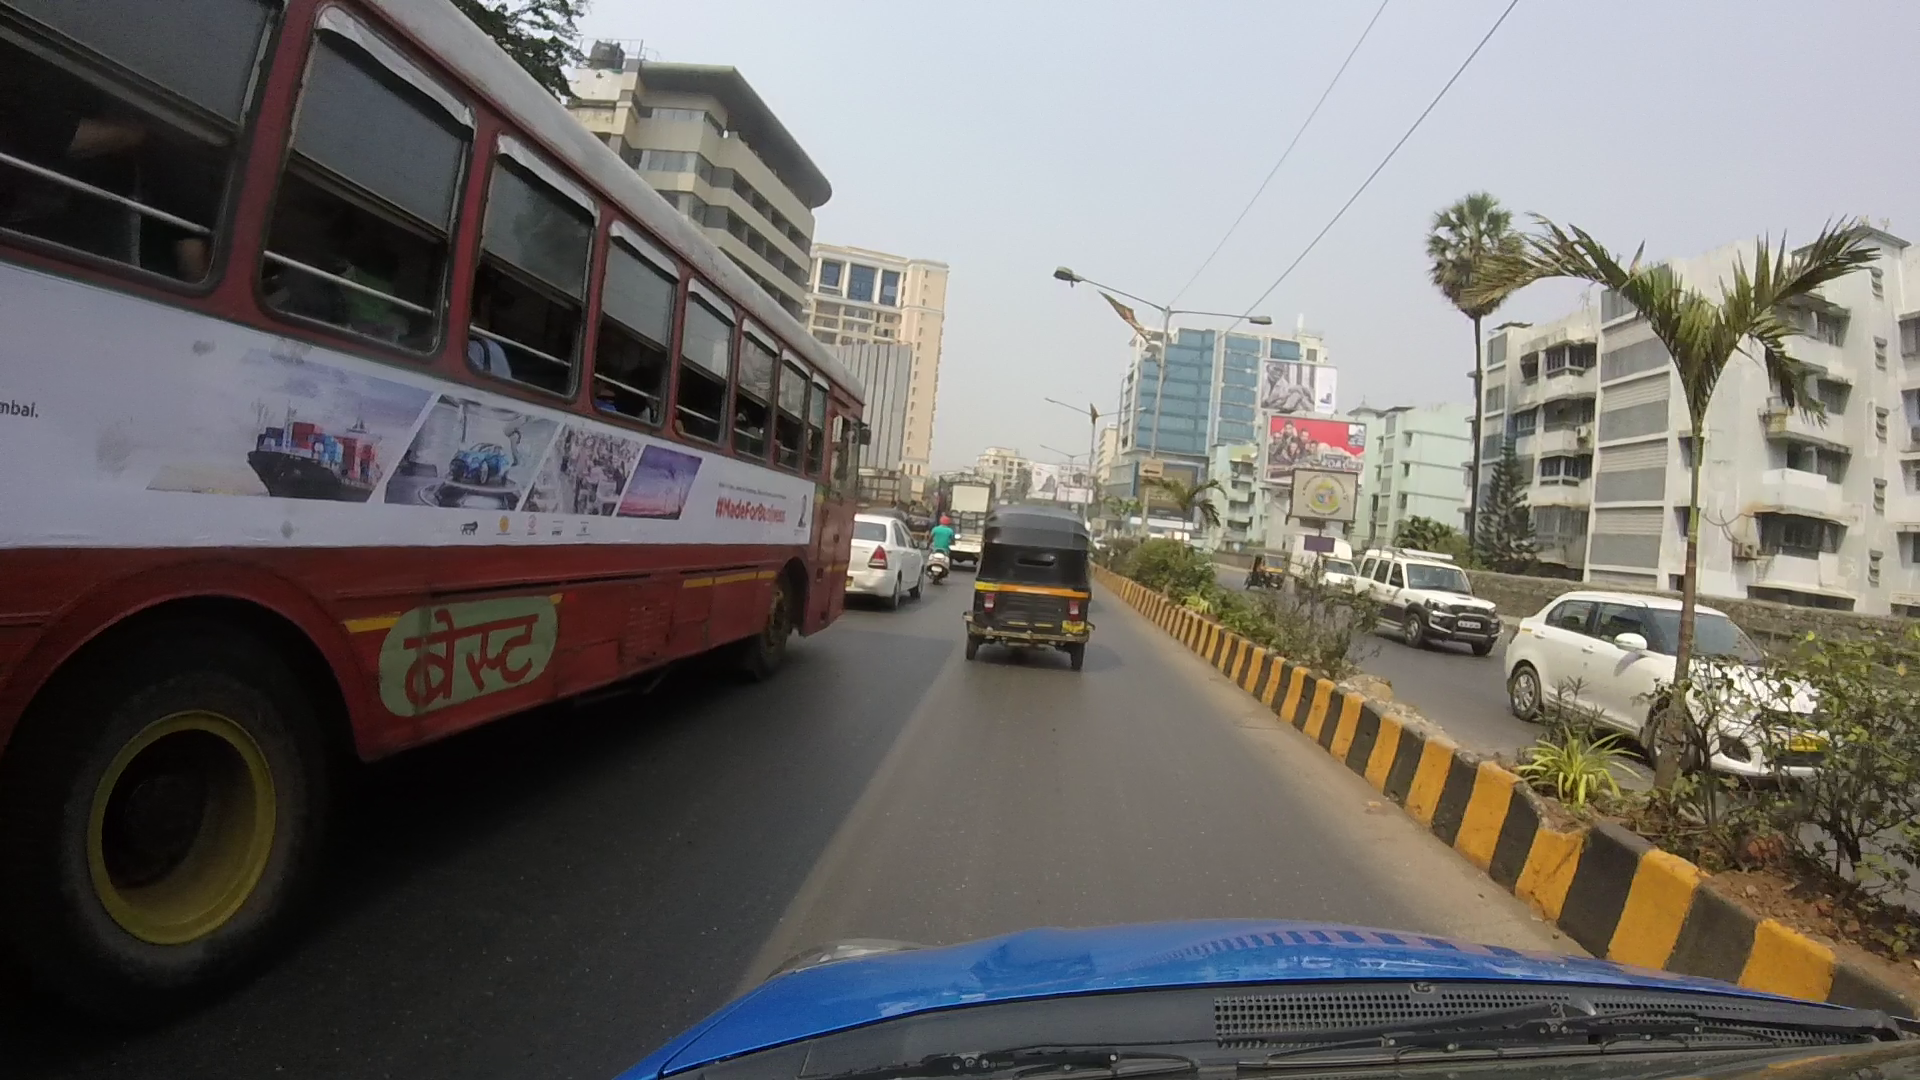bus: (15, 4, 858, 975)
car: (1516, 589, 1825, 789), (1364, 554, 1502, 651), (833, 510, 928, 601)
rickshaw: (961, 498, 1093, 663)
